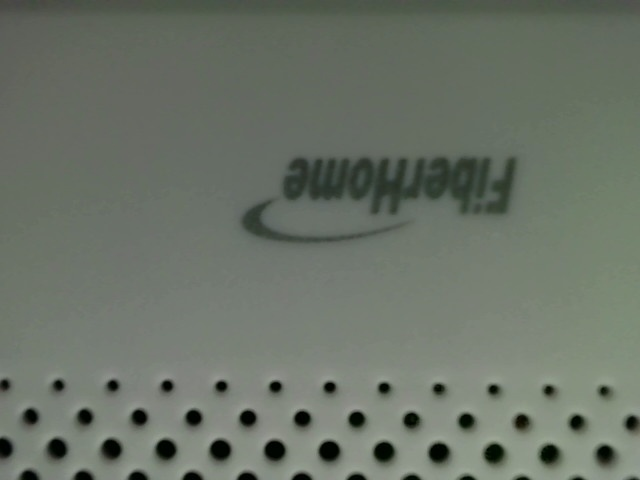AI_FiberHome: (223, 151, 523, 252)
